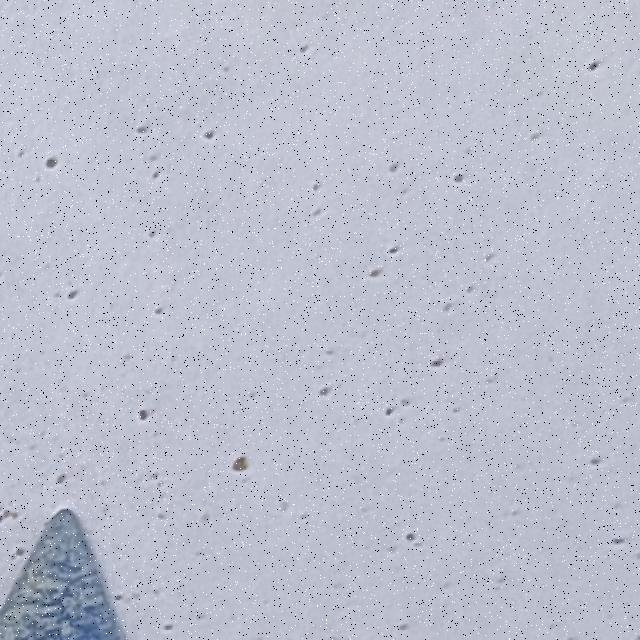fragments: (0, 507, 126, 640)
